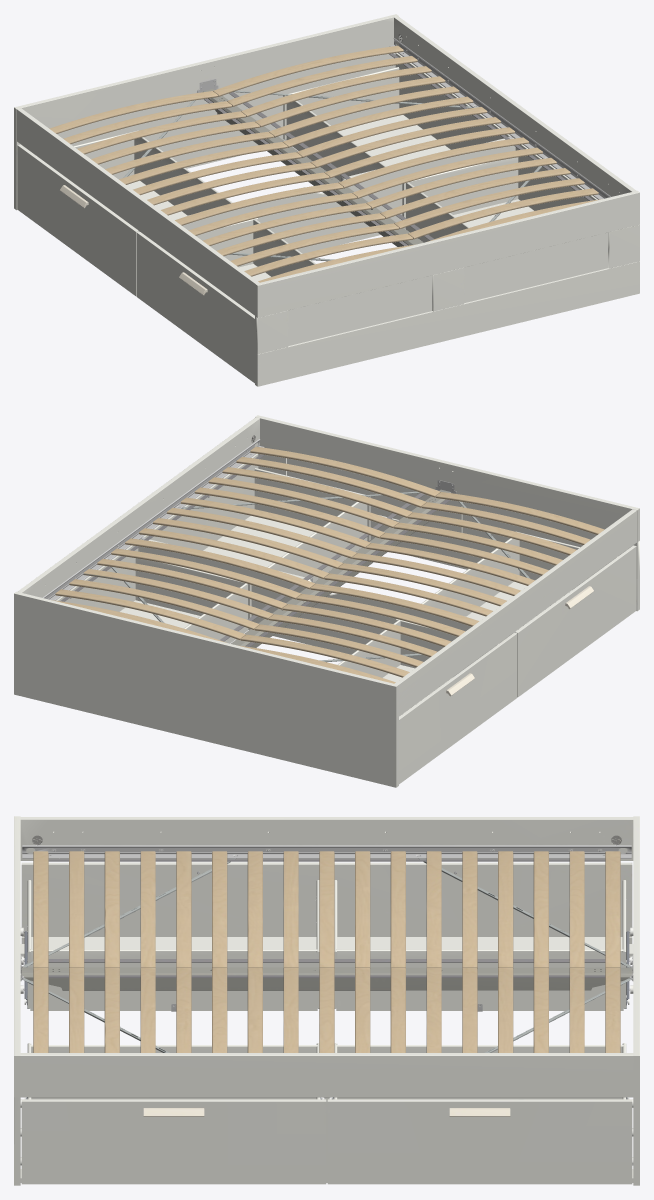
The model's file is brimnes_rama_ozka_z_szufladami_19928288.glb.
The picture shows the model from 3 angles, top to bottom: view 1: azimuth 30°, elevation 25°; view 2: azimuth 150°, elevation 25°; view 3: azimuth 270°, elevation 25°; orthographic projection. The views are drawn at different scales.
Visible parts, largest first — view 1: brimnes_rama_ozka_z_szufladami_19928288; view 2: brimnes_rama_ozka_z_szufladami_19928288; view 3: brimnes_rama_ozka_z_szufladami_19928288.
Boxes of the visible parts, box(x1,y1,x2,y2) form: brimnes_rama_ozka_z_szufladami_19928288: box(14, 14, 639, 386); brimnes_rama_ozka_z_szufladami_19928288: box(14, 415, 639, 787); brimnes_rama_ozka_z_szufladami_19928288: box(14, 816, 639, 1185).
Bounding box in the file's own units: 1.91 × 0.47 × 2.05.
Materials: 1 (1 with a texture image).
